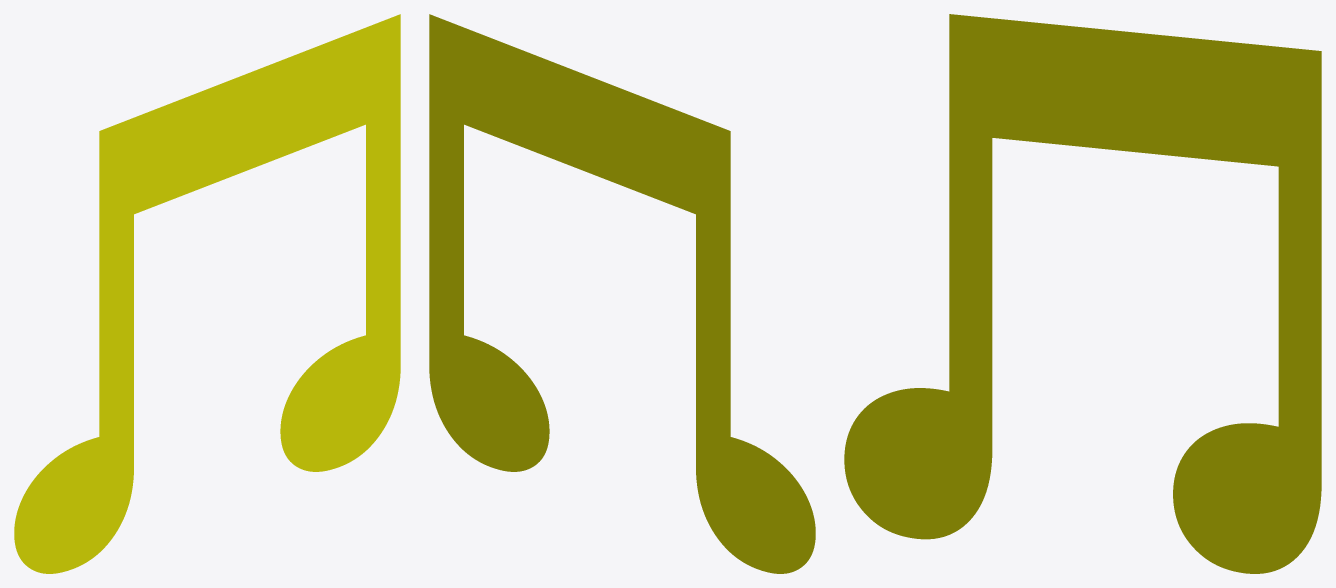
The model's file is musical_note.glb.
3 views of the same model, side by side, from view 1: azimuth 30°, elevation 25°; view 2: azimuth 150°, elevation 25°; view 3: azimuth 330°, elevation 25° (orthographic). The views are drawn at different scales.
Parts seen in each view (by area): view 1: Text.940_940; view 2: Text.940_940; view 3: Text.940_940.
Boxes of the visible parts, x1,y1,x2,y2 form: Text.940_940: [14, 14, 400, 573]; Text.940_940: [429, 14, 815, 573]; Text.940_940: [844, 14, 1321, 573].
Size of the model in its own units: 0.864 by 1.02 by 3.6e-06.
